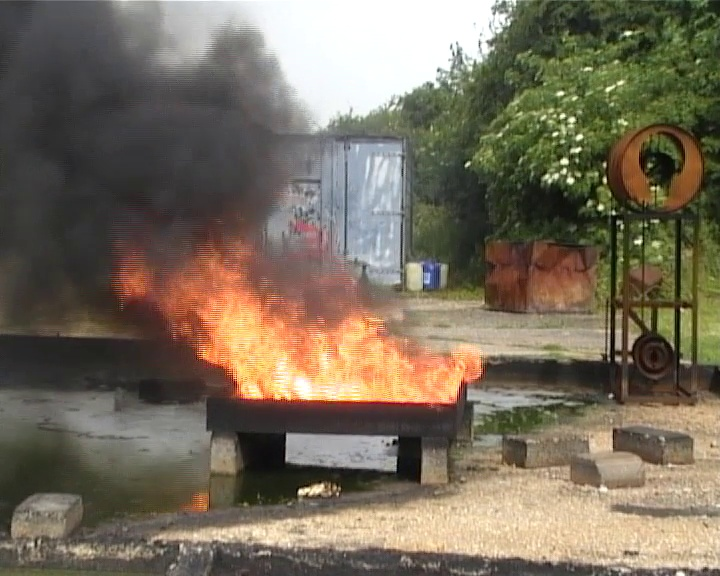fire: (168, 242, 477, 397)
